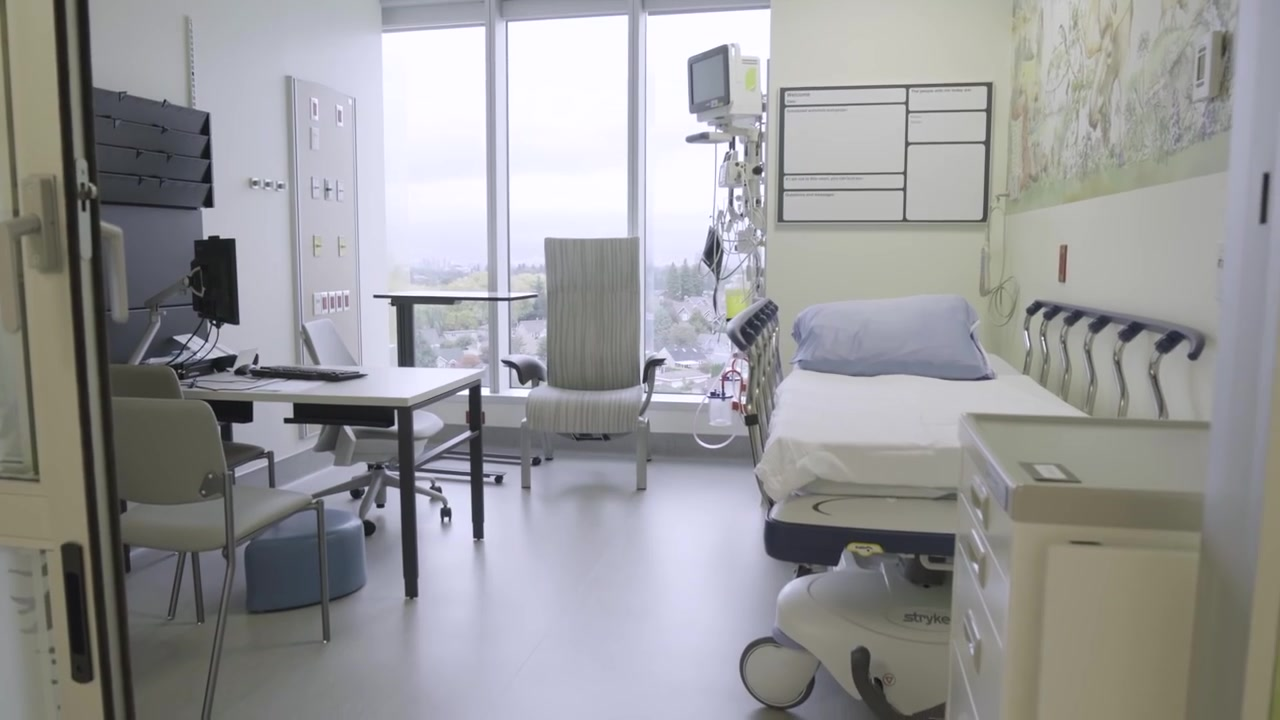bedrail: (1022, 299, 1206, 420), (726, 297, 784, 508)
bedside_monitor: (687, 43, 729, 114)
chair: (110, 397, 331, 720), (111, 365, 276, 624), (501, 237, 667, 490), (301, 318, 452, 537)
computer: (190, 237, 240, 326)
door_handle: (1, 175, 60, 334), (100, 218, 129, 324)
hospital_bed: (726, 296, 1207, 720)
keyboard: (250, 364, 368, 382)
medical_drawer: (945, 412, 1211, 720)
mouse: (233, 363, 257, 376)
overbed_table: (373, 290, 542, 484)
table: (121, 365, 486, 599)
